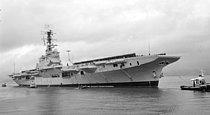MIL_Ship: (8, 25, 180, 87)
